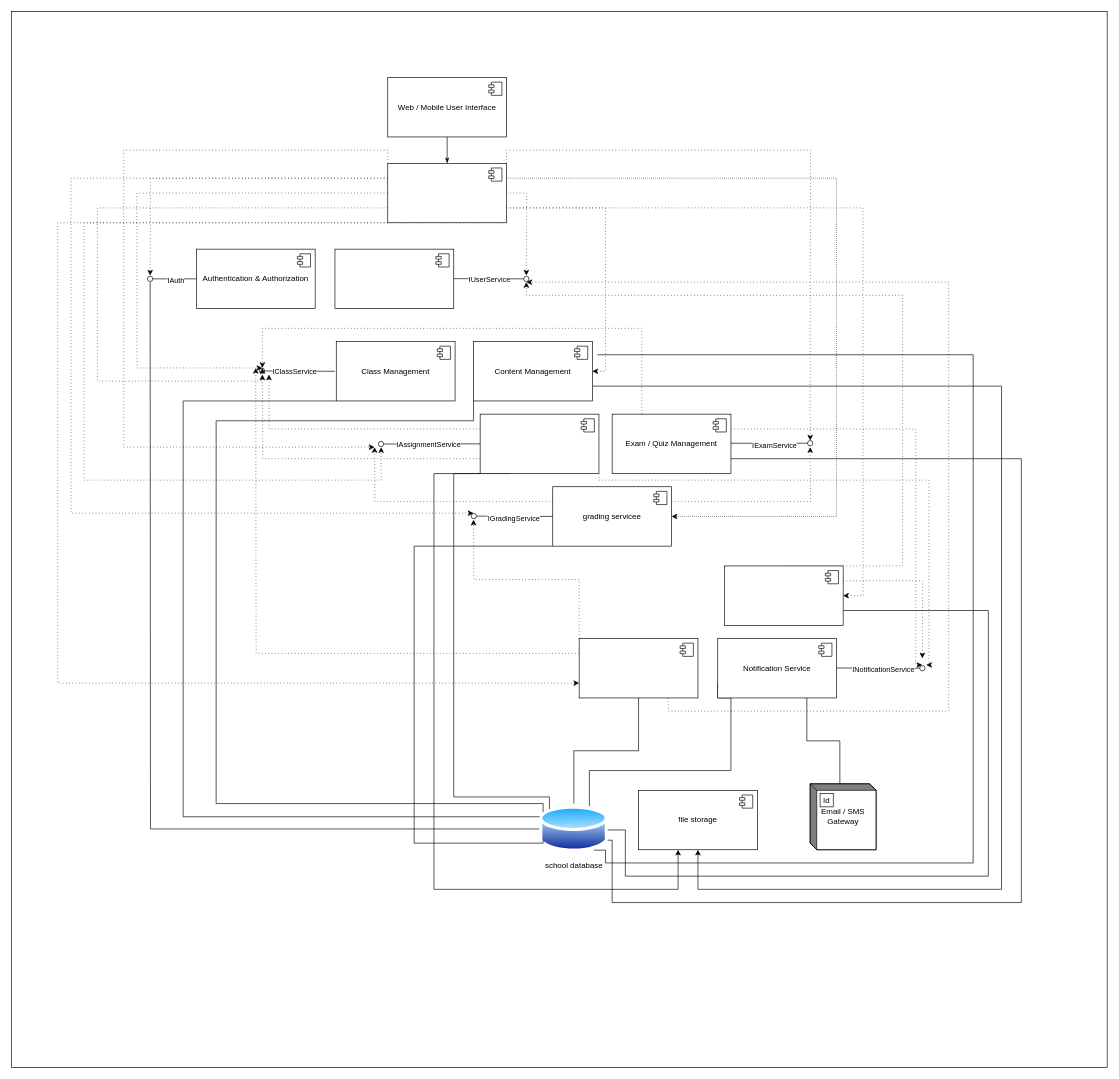
Image size: 1119x1079. Some labels were removed from this diagram. Each missing label, with the centre of its shape:
Application API: (447,193)
Assignment Management: (539,443)
Messaging Service: (783,595)
Reporting & Analytics: (638,668)
User Management: (394,278)
